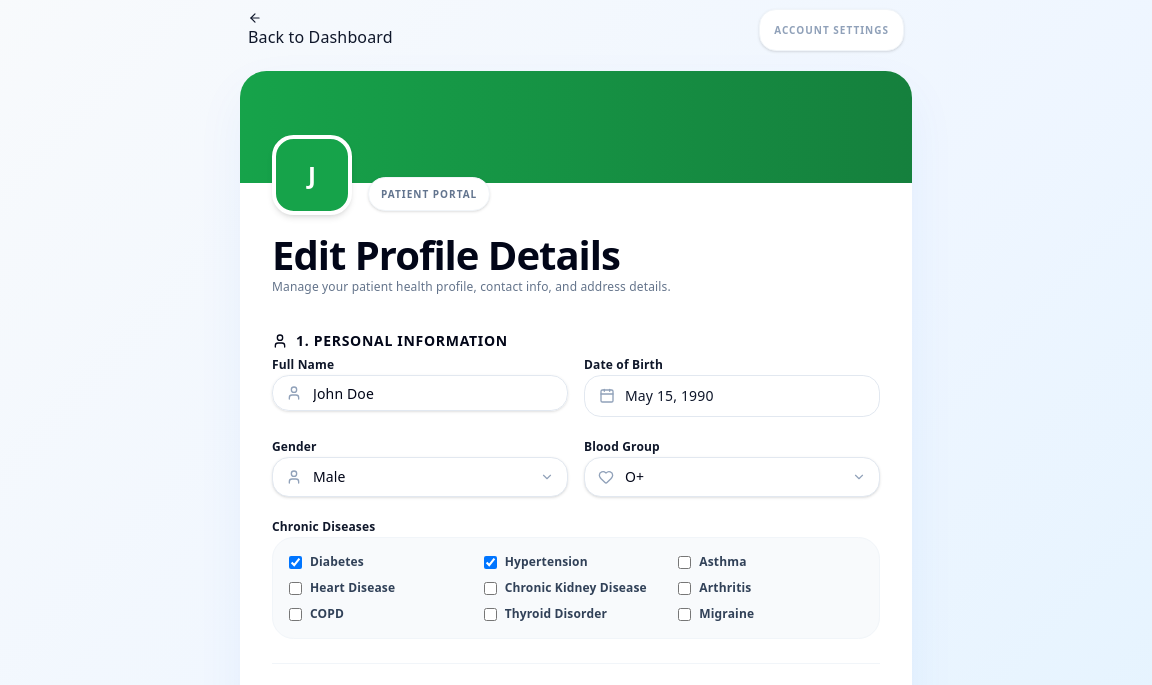
Test: Profile Page Component › should load and display patient profile form and submit updates
Expected: the label labelled "Date of Birth" holds "1990-05-15", 584,356 -> 663,373
Expected: the dropdown labelled "Blood Group" shows "O+", 584,457 -> 880,497
// Make edits
In the field labelled "Full Name": (420, 393) 272,375 -> 568,411, type "John E. Doe"
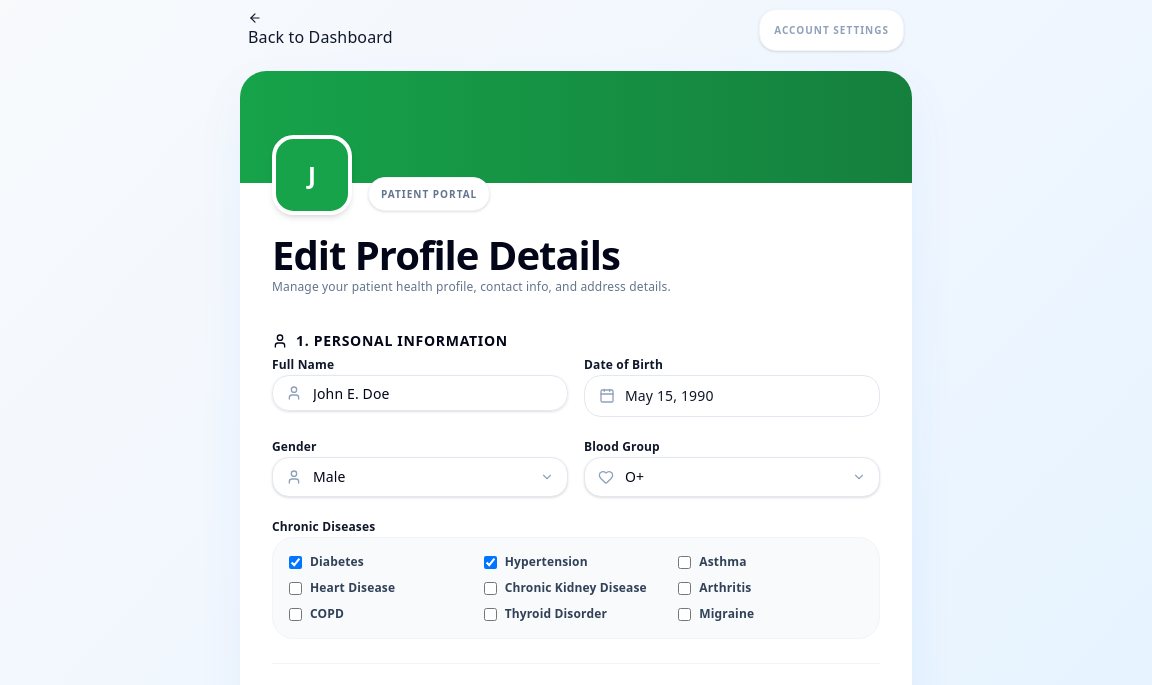
Select "A+" in the dropdown labelled "Blood Group": (732, 477) 584,457 -> 880,497
(page scrolled)
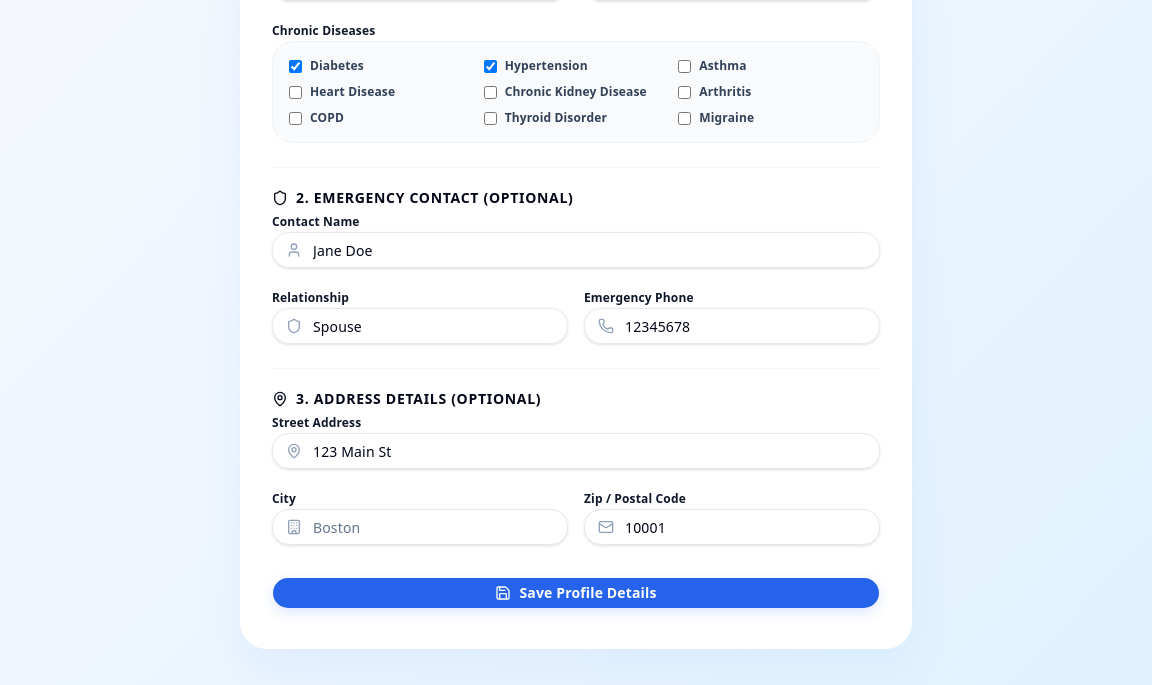
Replace the text in the field labelled "Street Address" with "456 Health St": (576, 451) 272,433 -> 880,469
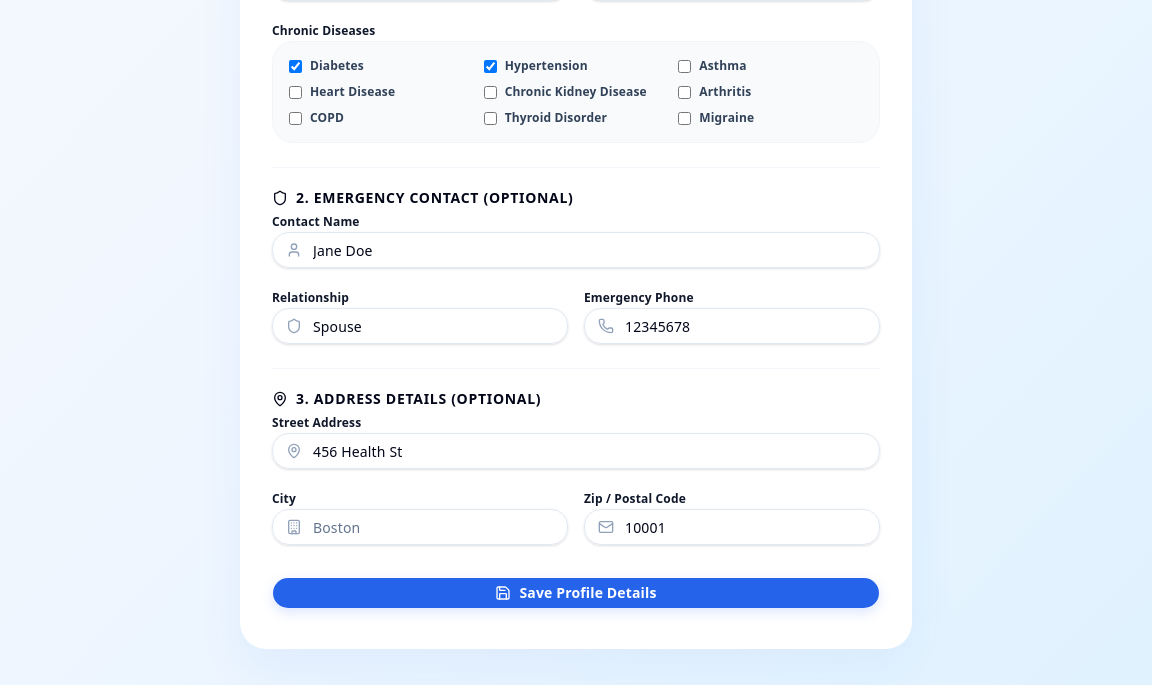
// Submit form
Click the button "Save Profile Details": (576, 593) 272,577 -> 880,609
(page scrolled)
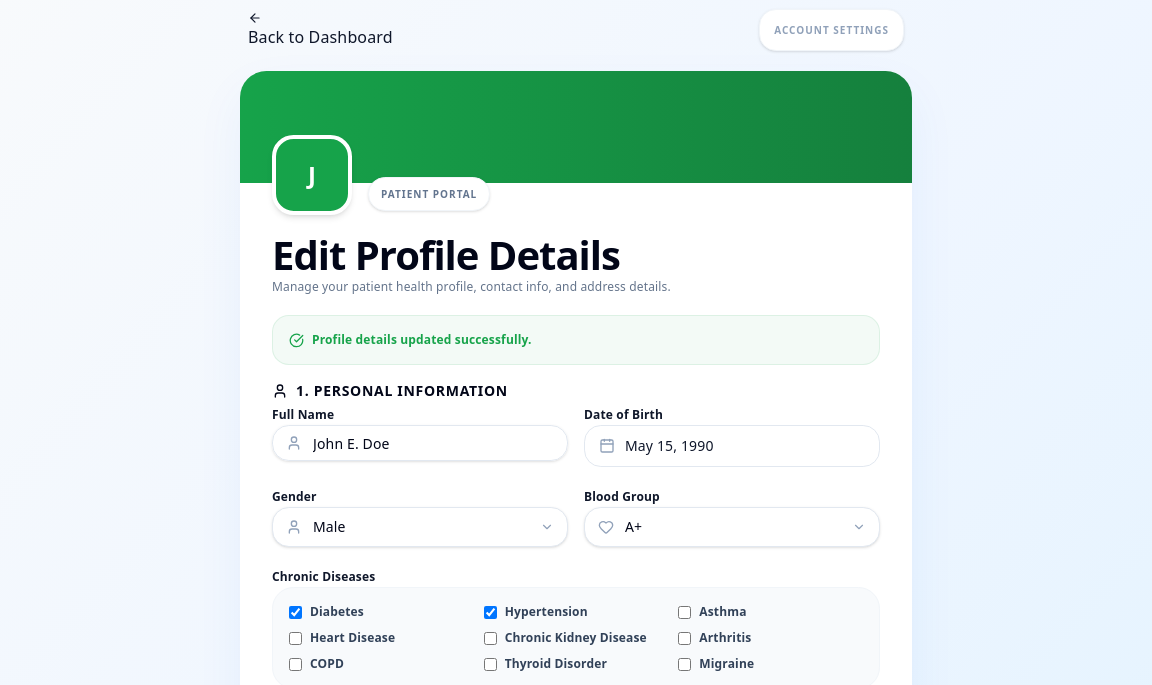
Expected: the text "Profile details updated successfully." is shown, 312,332 -> 532,348
